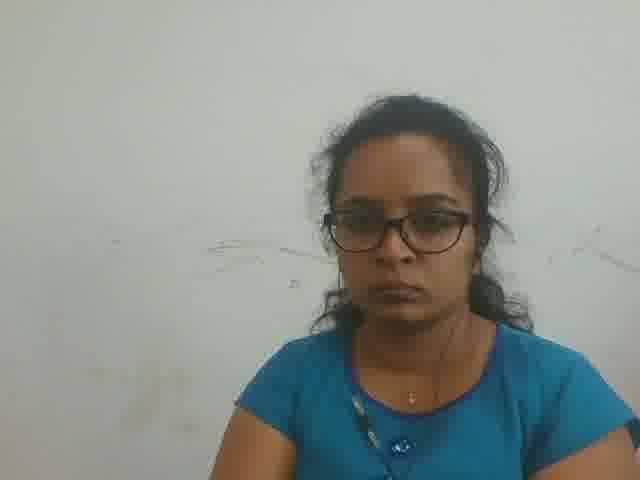bosan: (330, 148, 474, 335)
